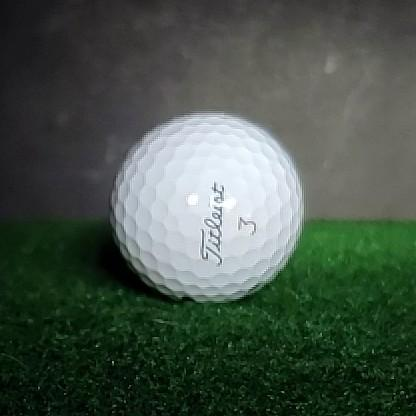golfball: (109, 113, 304, 304)
